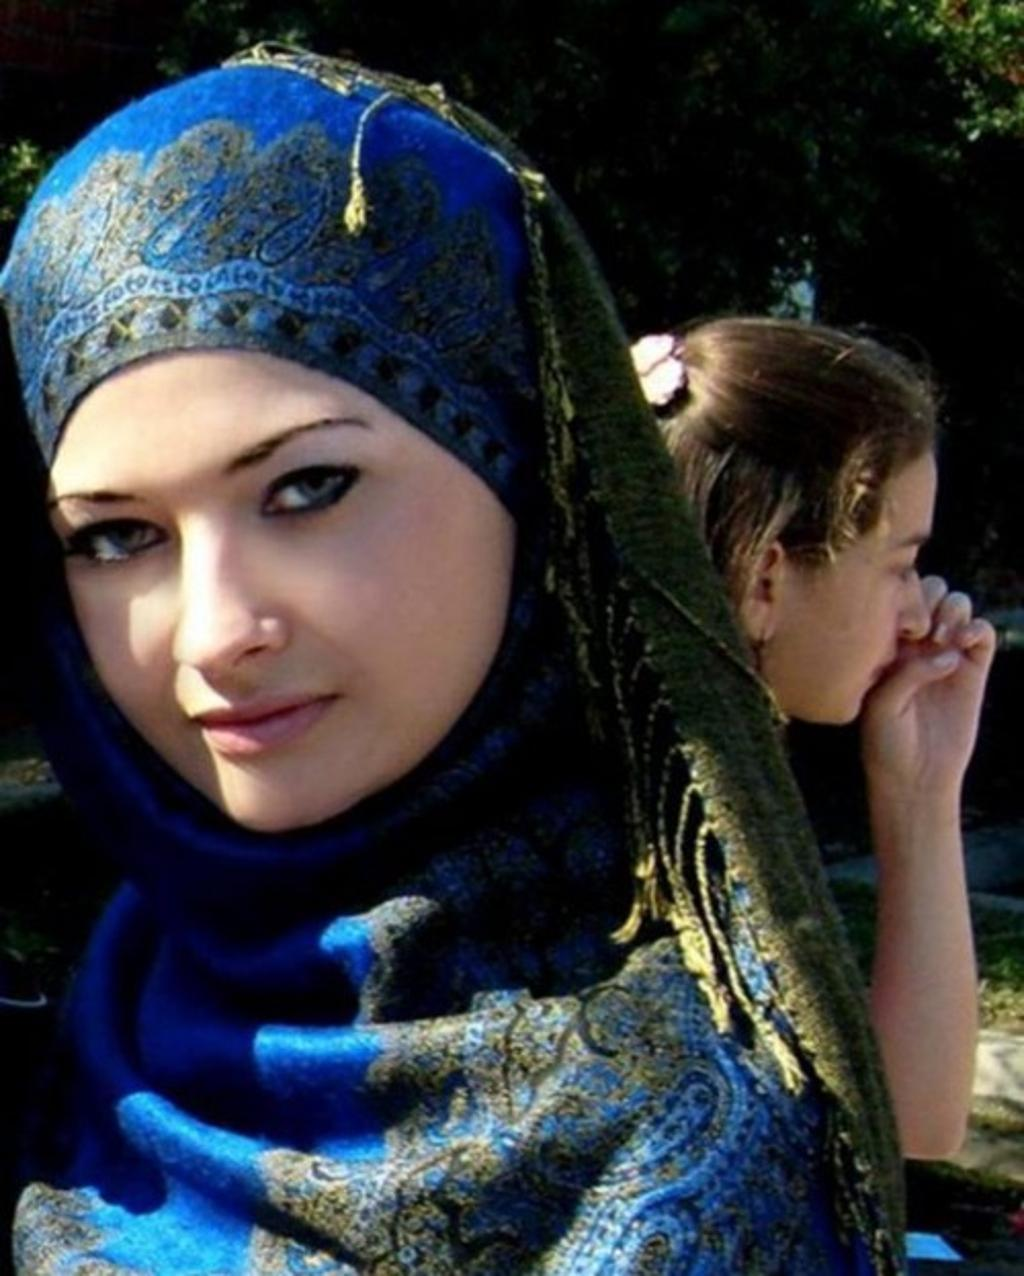face: (37, 326, 513, 827), (790, 434, 932, 726)
